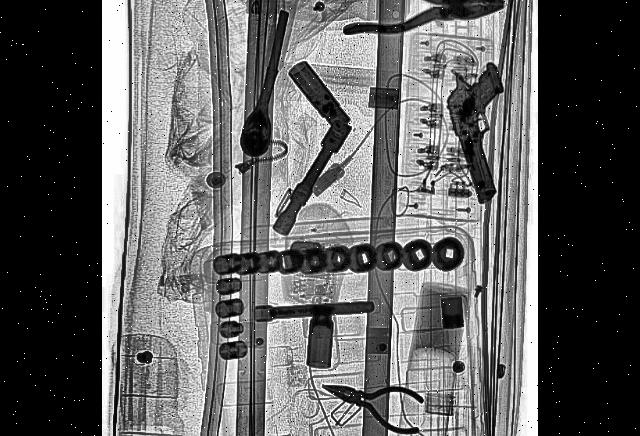Gun: (440, 48, 528, 208)
Pliers: (319, 361, 424, 436), (342, 0, 504, 33)
